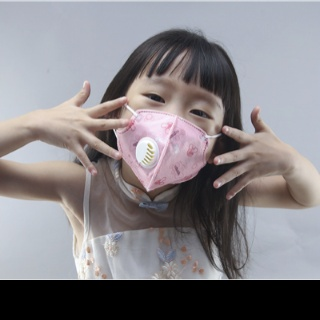with_mask: (116, 74, 224, 192)
